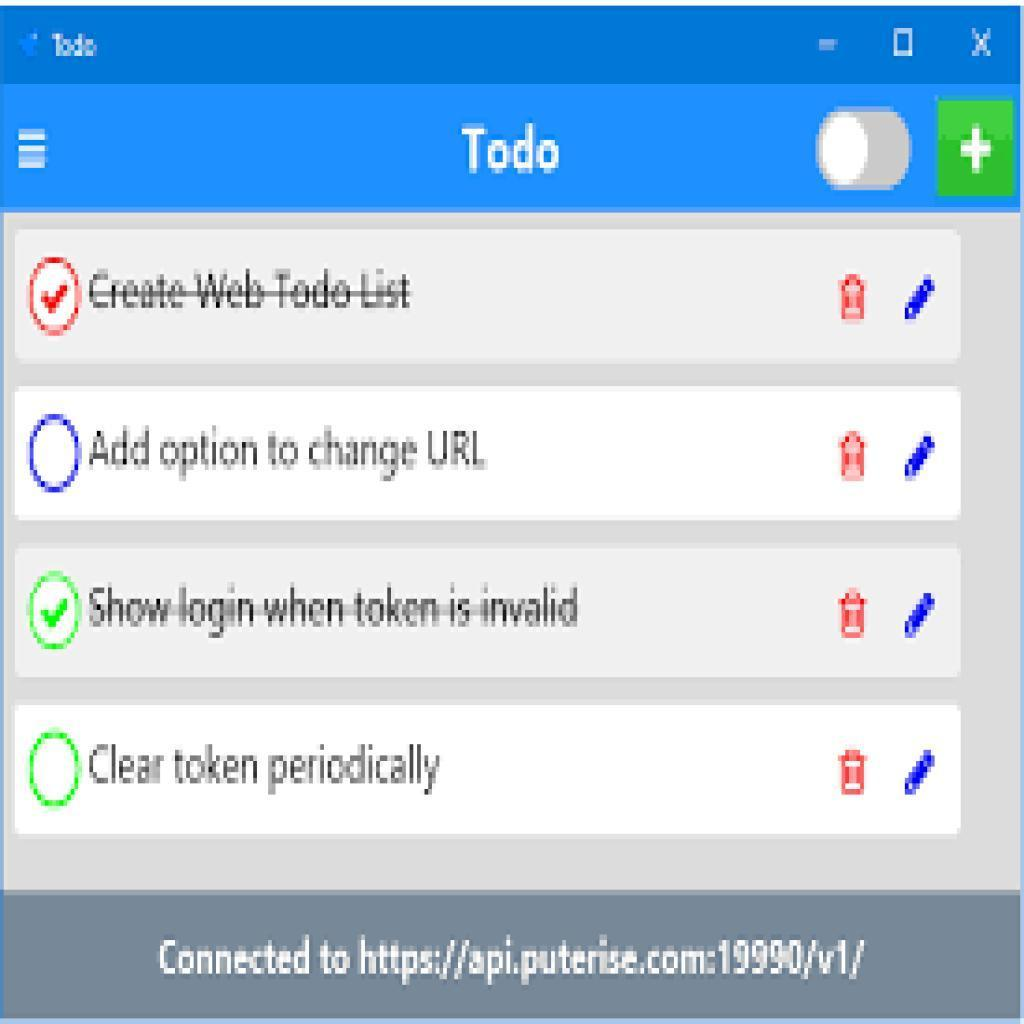icon: (897, 272, 950, 335), (949, 119, 1005, 175), (891, 746, 941, 802), (893, 430, 940, 486), (826, 265, 870, 324), (837, 584, 875, 646), (836, 741, 873, 803), (901, 587, 940, 645), (837, 421, 870, 488)
radio: (25, 256, 87, 341), (26, 727, 87, 813), (25, 571, 85, 653), (29, 412, 85, 499)
switch: (816, 108, 912, 198)
